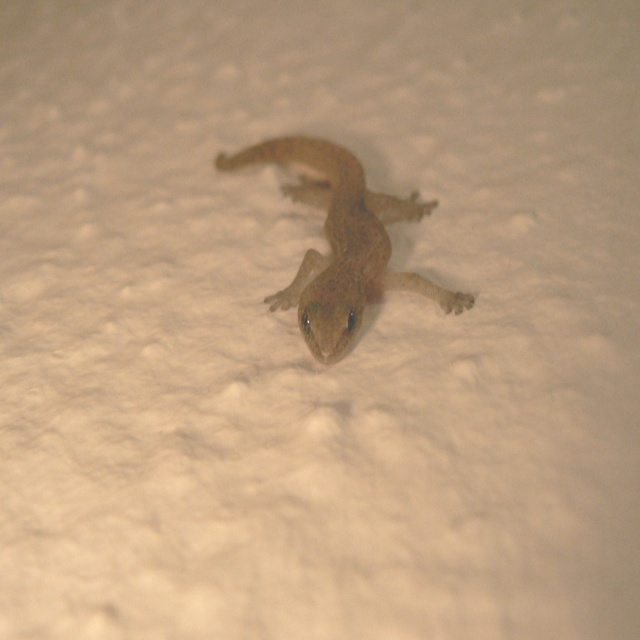Lizard: (224, 125, 465, 376)
